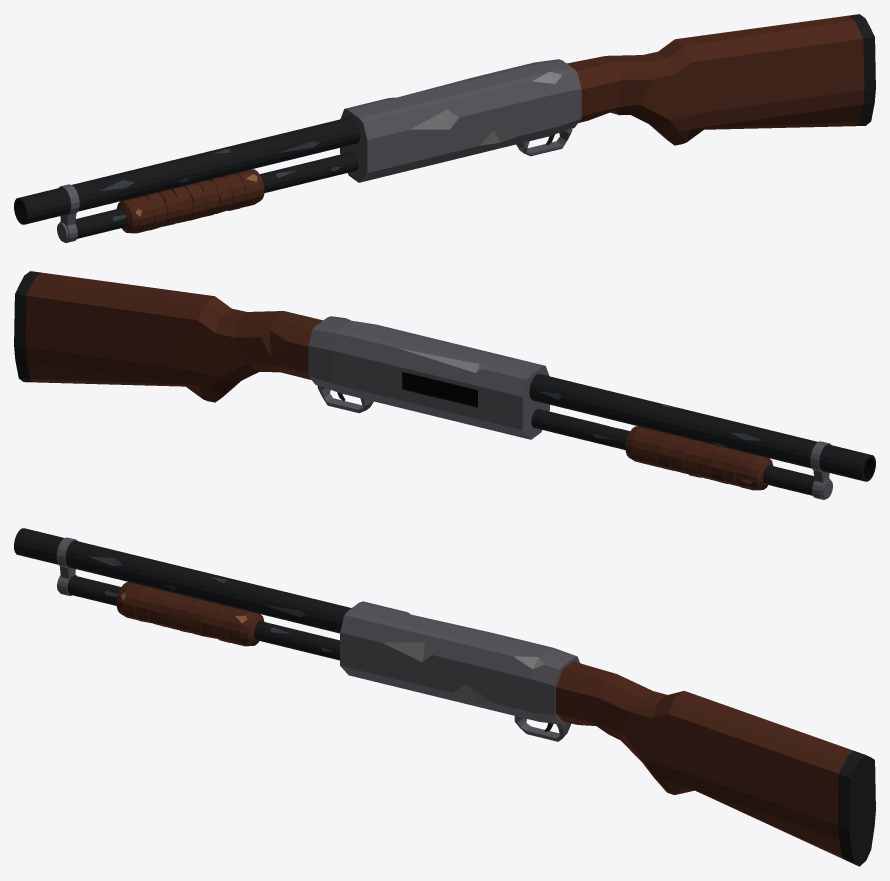
File: Shotgun_02.gltf
3 views of the same model, one above another, from view 1: azimuth 30°, elevation 25°; view 2: azimuth 150°, elevation 25°; view 3: azimuth 330°, elevation 25° (orthographic).
Parts seen in each view (by area): view 1: Shotgun_02, Gate_010; view 2: Shotgun_02, Gate_010; view 3: Shotgun_02, Gate_010.
Boxes of the visible parts, bbox=[...] form: Shotgun_02: bbox=[14, 14, 875, 242]; Gate_010: bbox=[116, 169, 264, 233]; Shotgun_02: bbox=[14, 271, 875, 499]; Gate_010: bbox=[625, 426, 773, 490]; Shotgun_02: bbox=[14, 528, 875, 866]; Gate_010: bbox=[116, 582, 264, 646].
Bounding box in the file's own units: 0.9553 × 0.145 × 0.0537.
